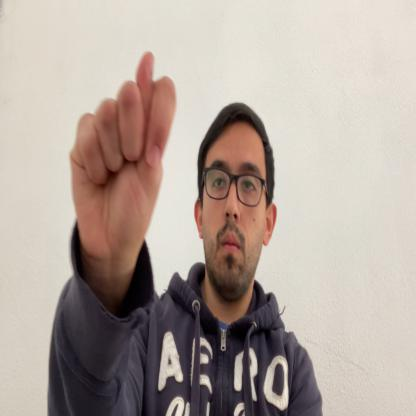T: (70, 48, 176, 256)
